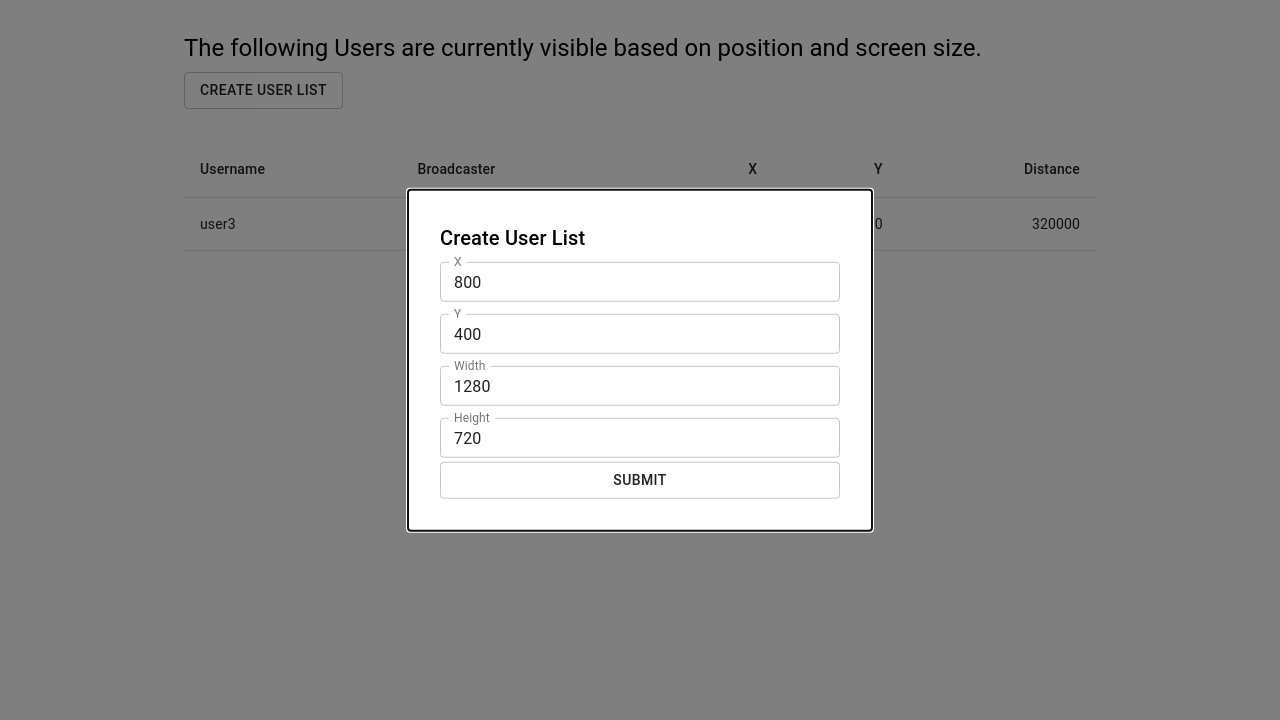
<UserList /> › submits modal with player at 0,0 with 0x0 view and renders table correctly
The width and height of the screenshot is (1280, 720).
Expected: the heading "Create User List" is shown, [440,226,585,250]
Replace the text in the 1st number field with placeholder "X" with "0" at (640, 282), box [440,262,840,302]
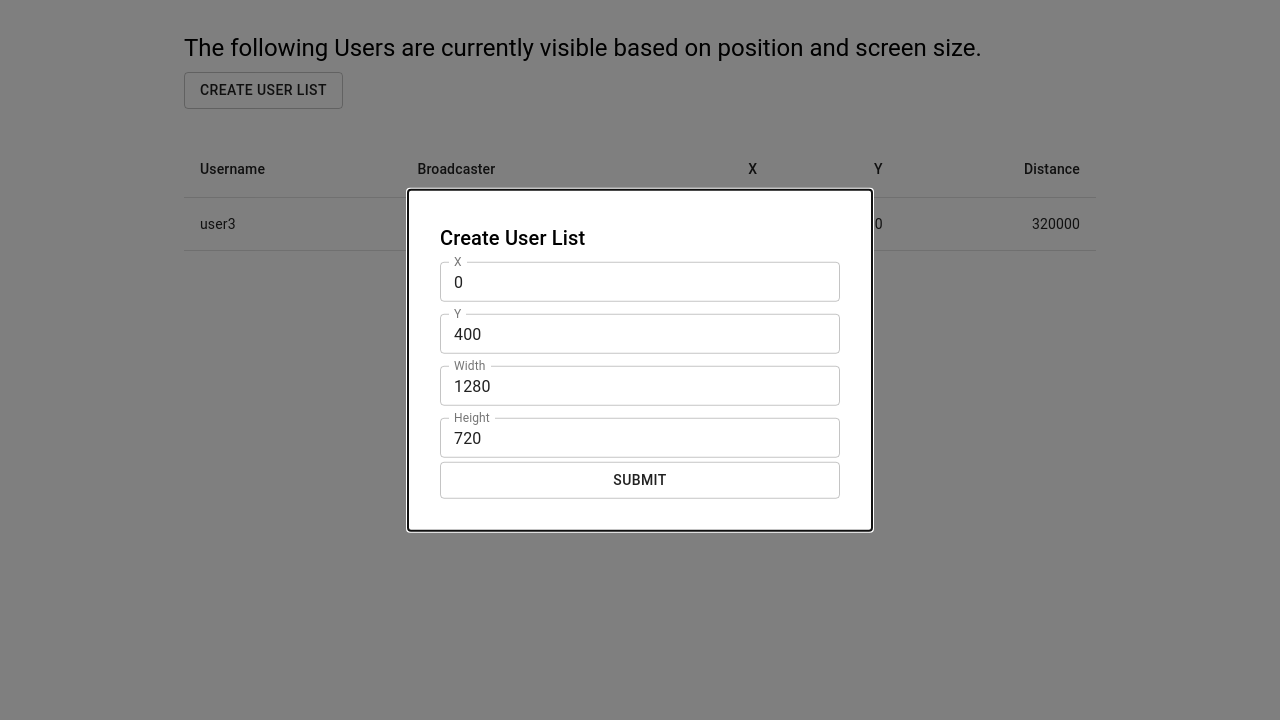
Replace the text in the 2nd number field with placeholder "Y" with "0" at (640, 334), box [440,314,840,354]
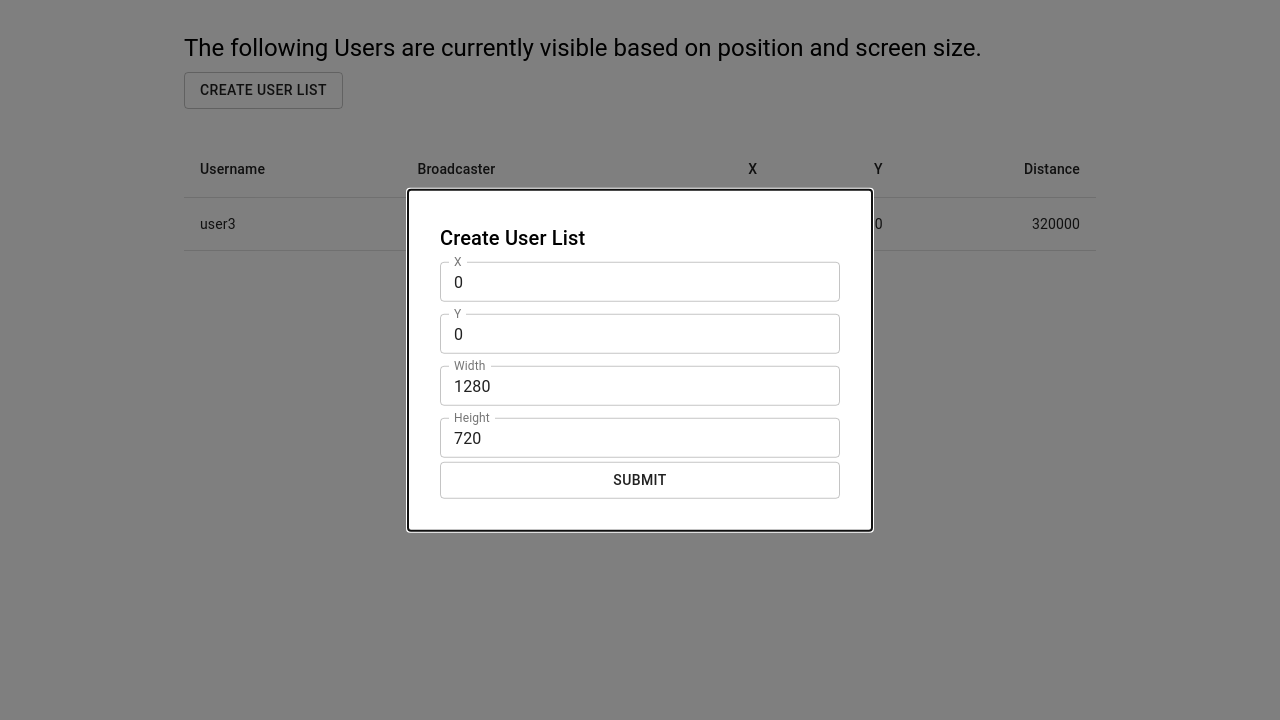
Replace the text in the number field with placeholder "Width" next to "Width" with "0" at (640, 386), box [440,366,840,406]
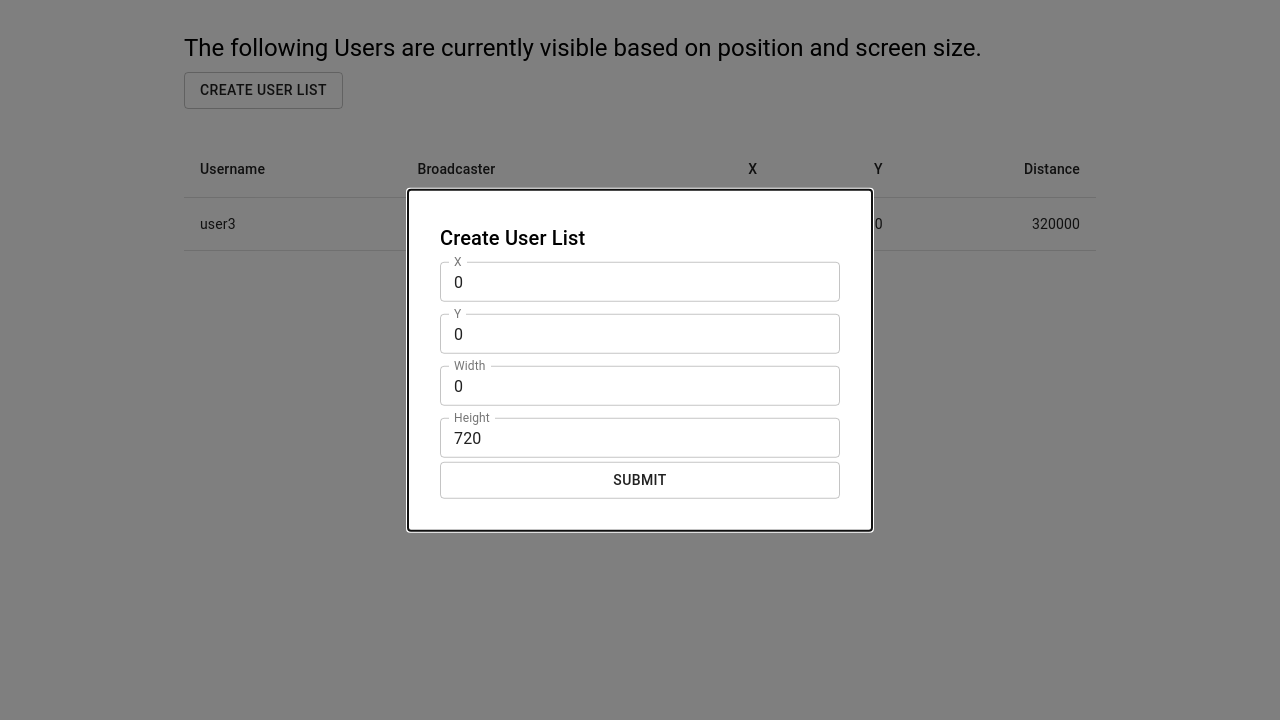
Replace the text in the number field with placeholder "Height" next to "Height" with "0" at (640, 438), box [440,418,840,458]
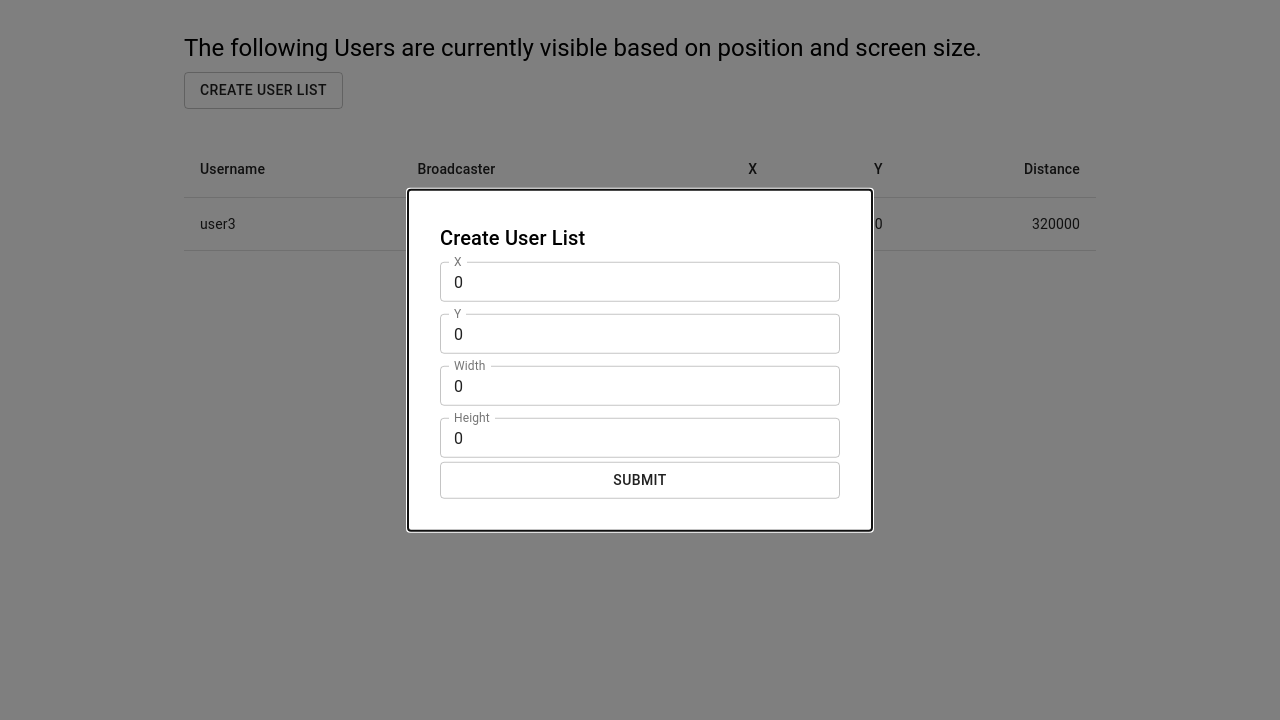
Click the button at (640, 480), box [440,462,840,498]
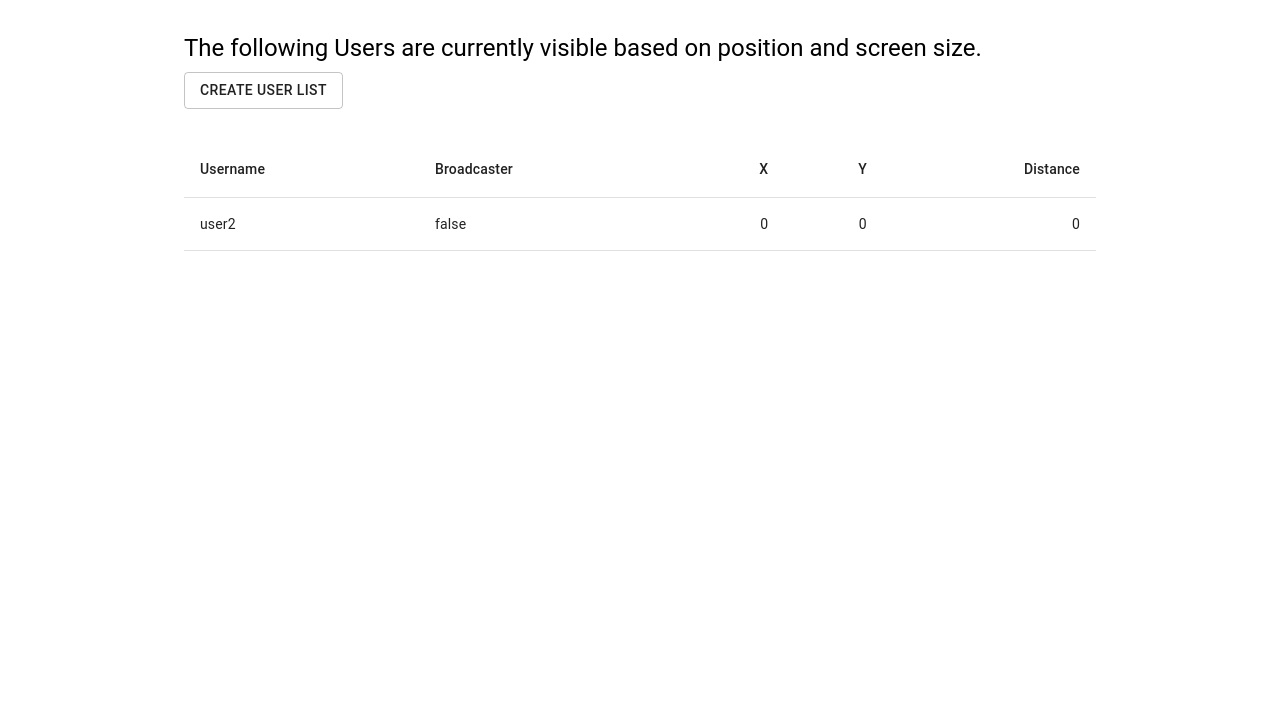
Expected: the text "user2" is shown, [184,197,419,250]
